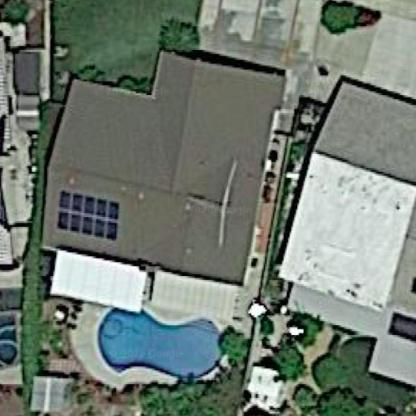solar_panel: (52, 185, 127, 243)
swimming_pool: (90, 292, 224, 390)
